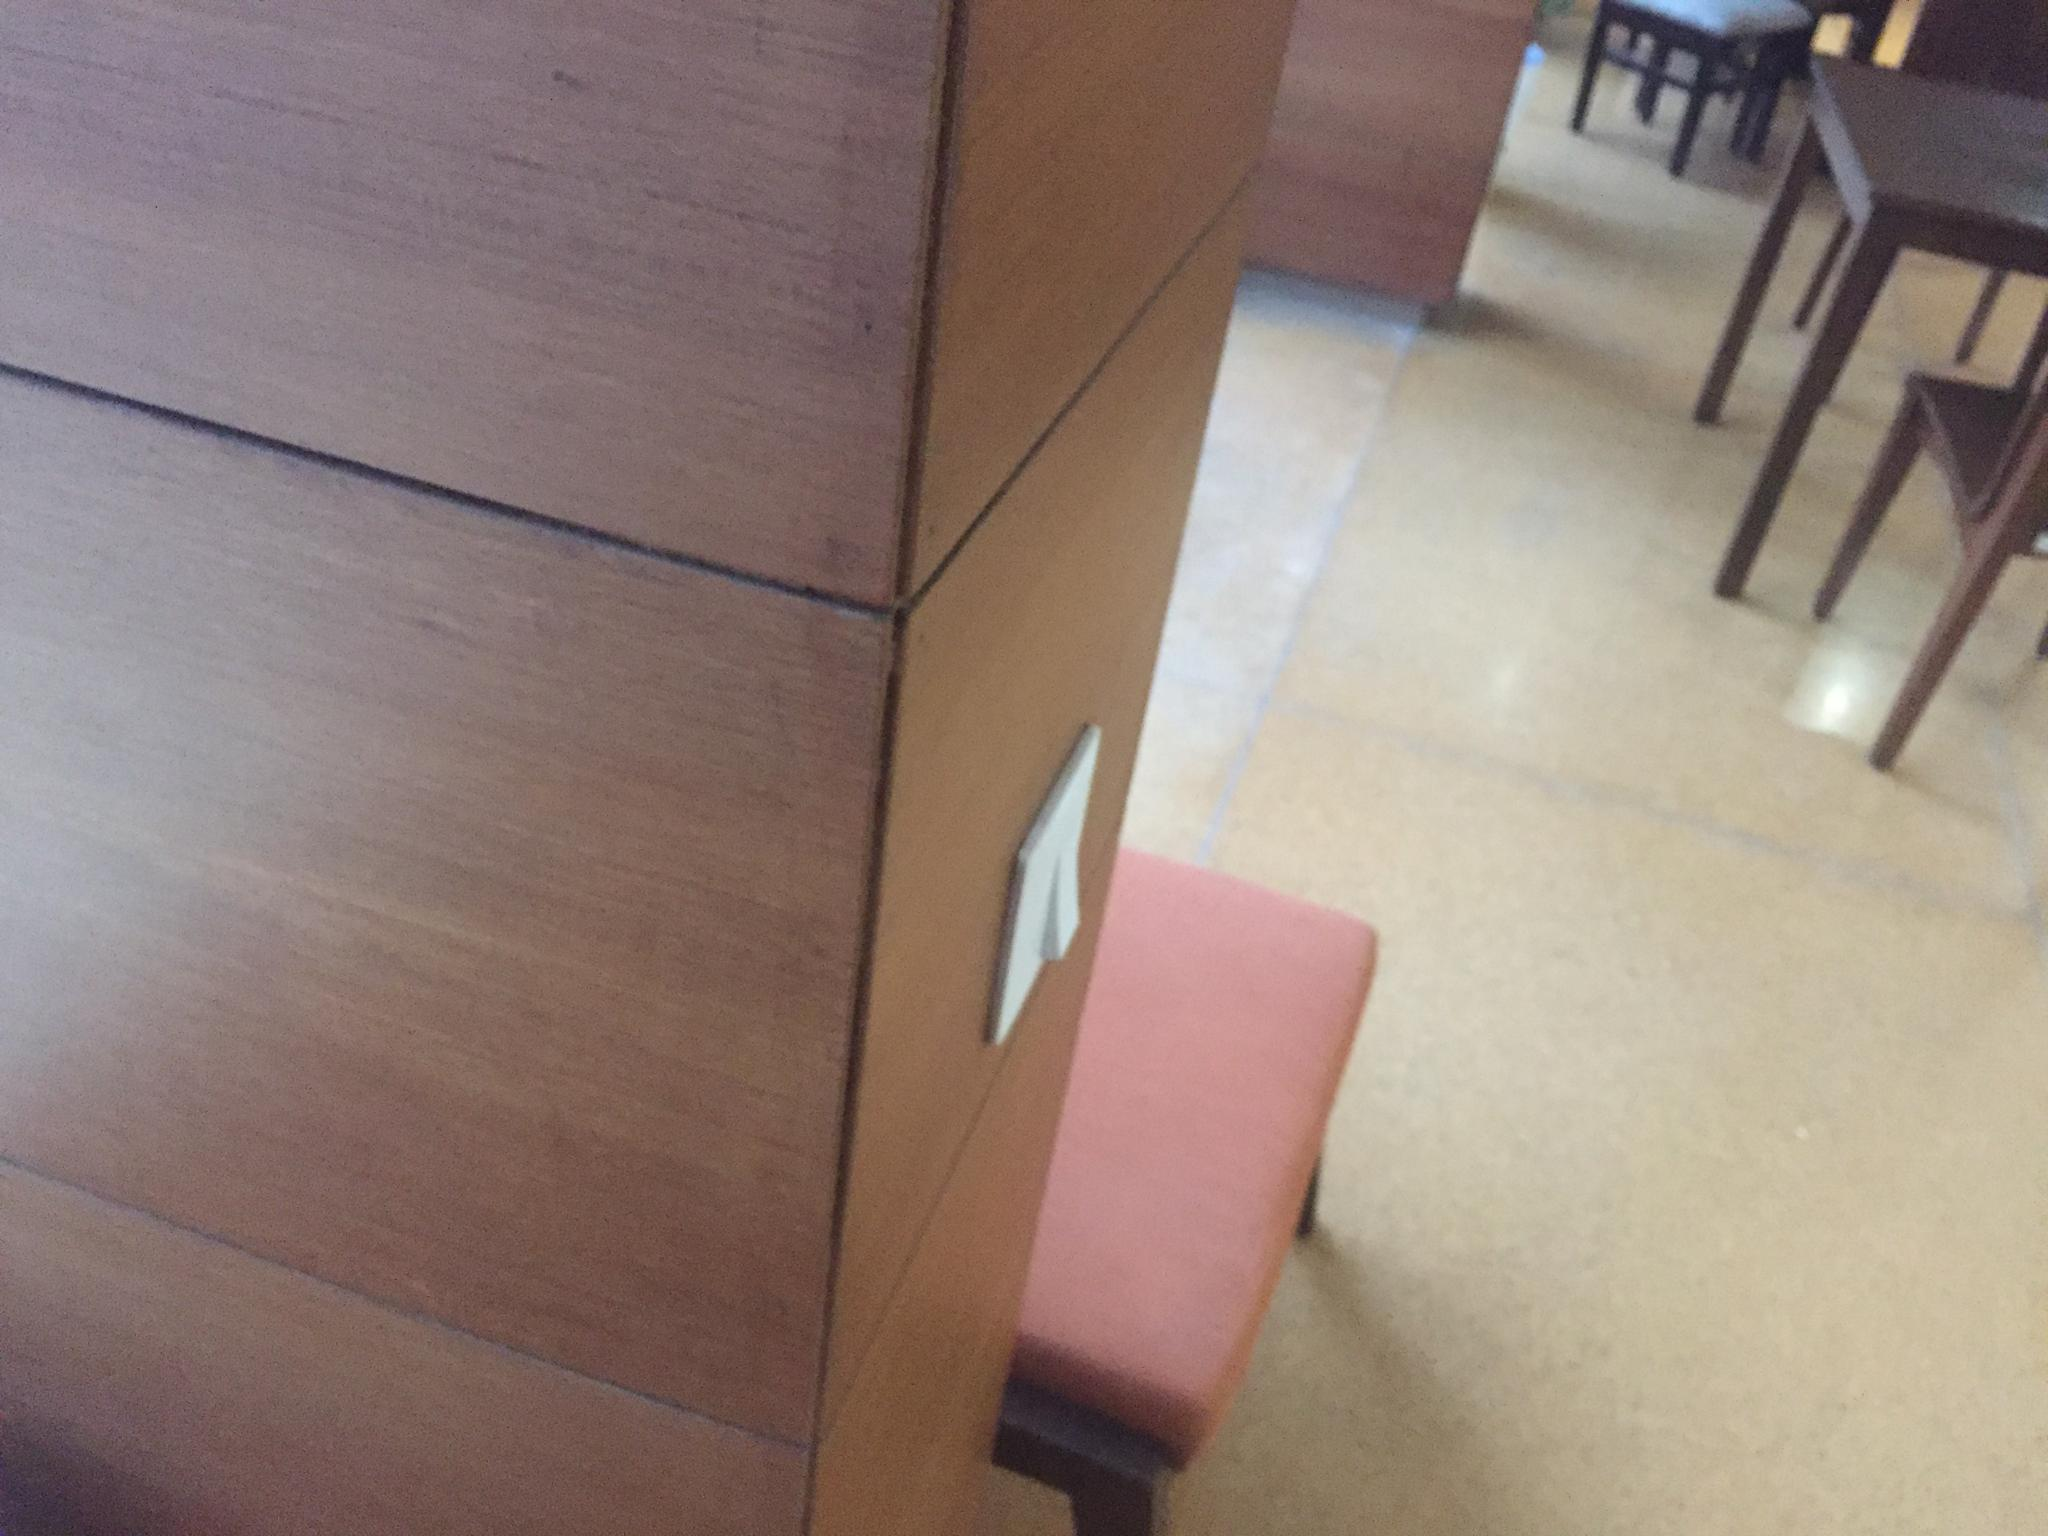chair: (879, 744, 1397, 1536), (1811, 300, 2046, 771), (1561, 0, 1816, 176)
